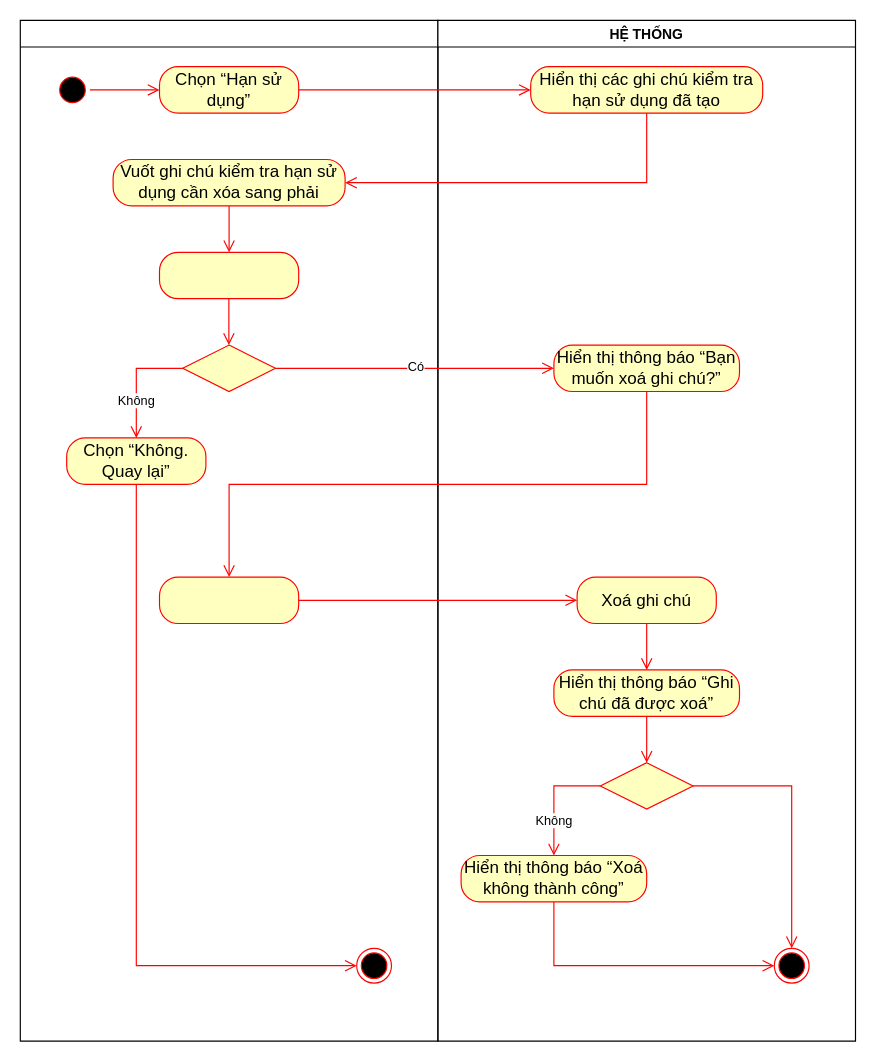
This 876x1061 diagram has some shape labels left out. Here are the shapes that lost their labels. From the top down, the box of each, then its label:
(158, 251, 299, 299): Chọn “Xoá”
(182, 344, 276, 392): Tiếp tục xoá?
(19, 19, 438, 1041): NGƯỜI DÙNG
(158, 576, 299, 624): Chọn “Xác nhận”
(599, 762, 693, 809): Thành công?
